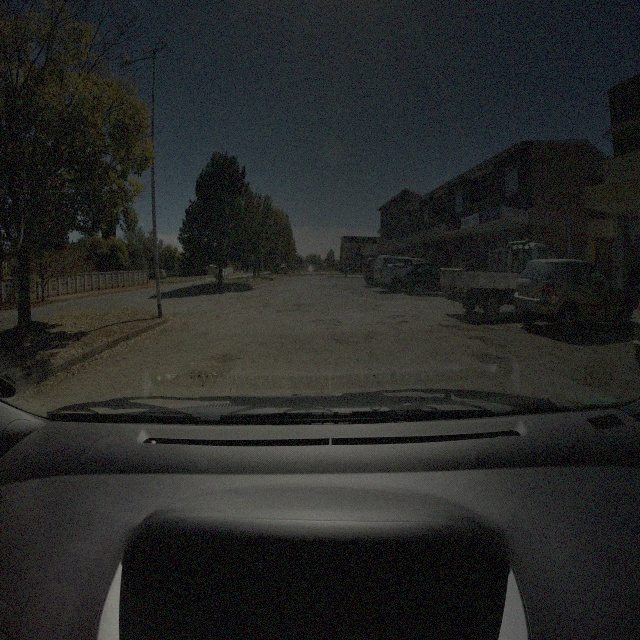pothole: (190, 346, 242, 382), (470, 347, 506, 370), (438, 320, 463, 335), (312, 317, 342, 328), (467, 335, 491, 345), (276, 307, 299, 314), (396, 318, 408, 328), (388, 314, 404, 320), (374, 302, 384, 309)
